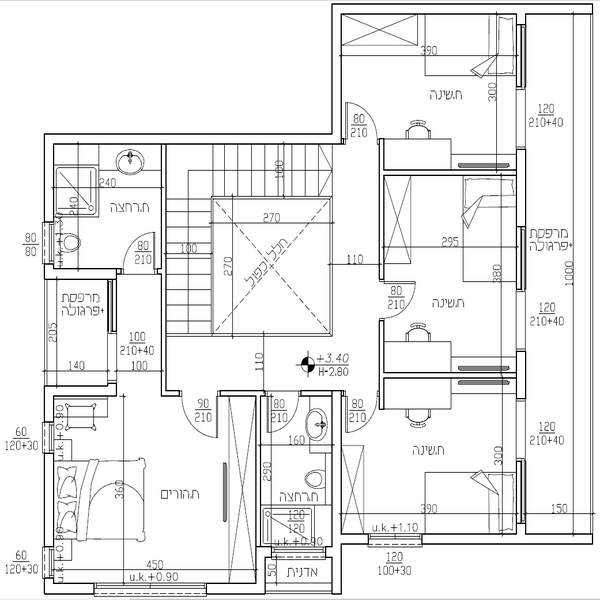door: (177, 388, 222, 445), (377, 278, 427, 325), (342, 390, 384, 435), (122, 231, 157, 279), (339, 104, 378, 144), (266, 391, 303, 433)
room: (45, 386, 268, 594), (330, 4, 535, 178), (332, 387, 528, 545), (43, 133, 169, 286)
wall: (343, 1, 578, 17), (47, 134, 340, 144), (512, 294, 529, 458), (513, 91, 532, 224), (331, 4, 344, 135), (41, 455, 59, 543)
window: (94, 581, 208, 600), (272, 545, 327, 564), (512, 24, 527, 88), (372, 531, 423, 546), (515, 227, 526, 291), (42, 223, 57, 259), (107, 280, 117, 332), (44, 421, 57, 451), (43, 547, 53, 575)
